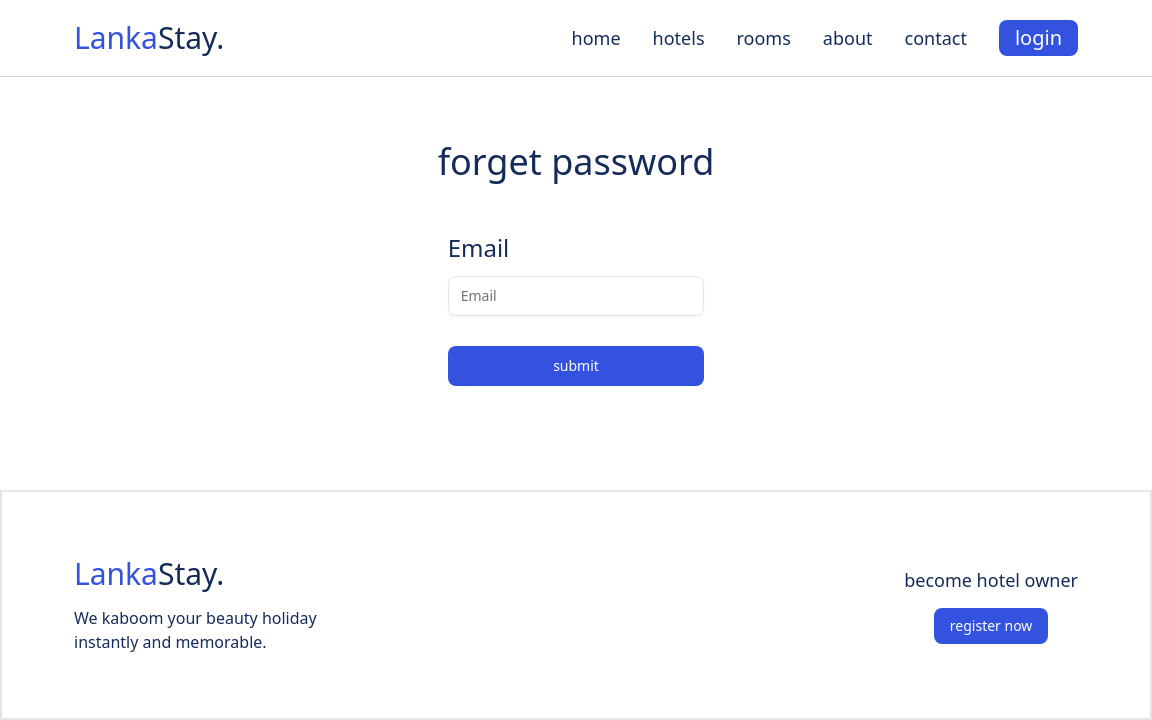
Scenario: forgetPassword page › should show an error for not found user
In the field labelled "email": (576, 296) [448,276,704,316], type "exist@mail.com"
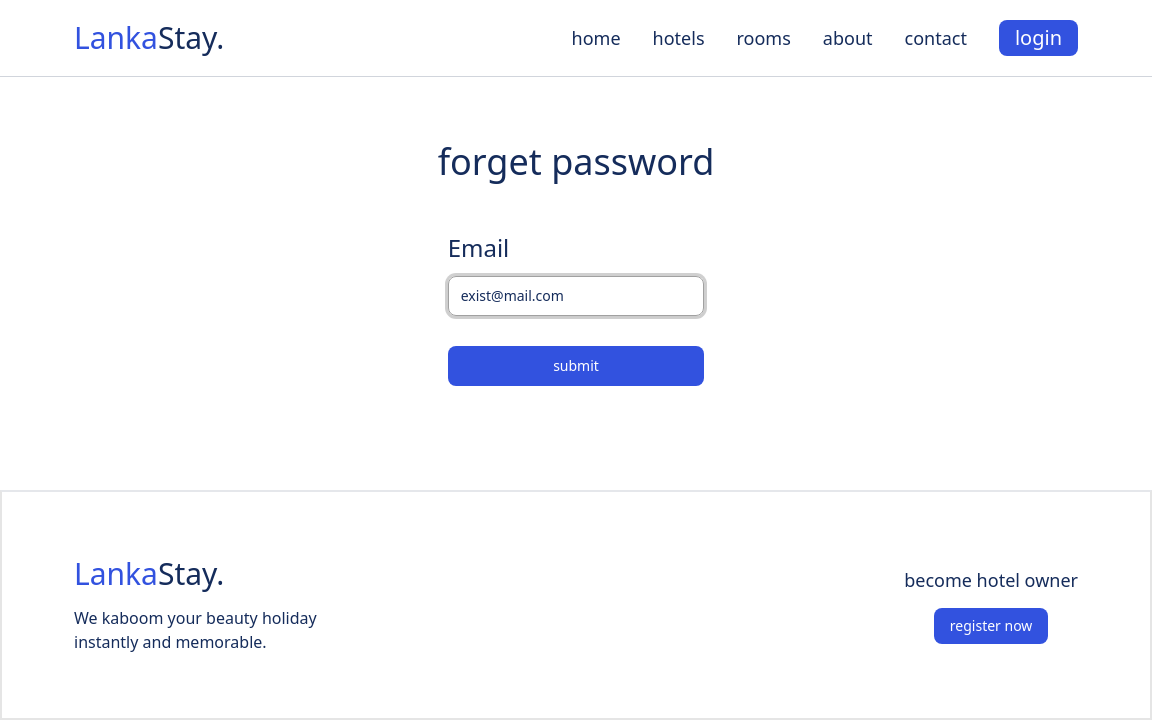
Click the button "submit": (576, 366) [448,346,704,386]
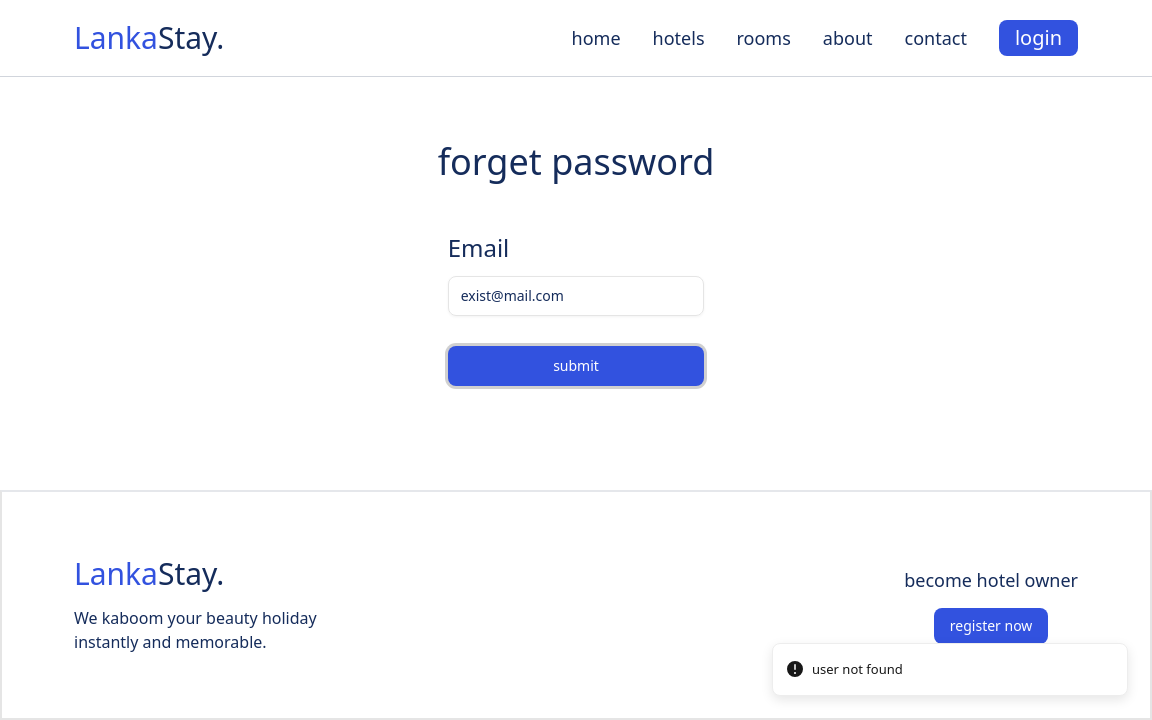
Now the text "user not found" is shown, box [812,660,903,679]
